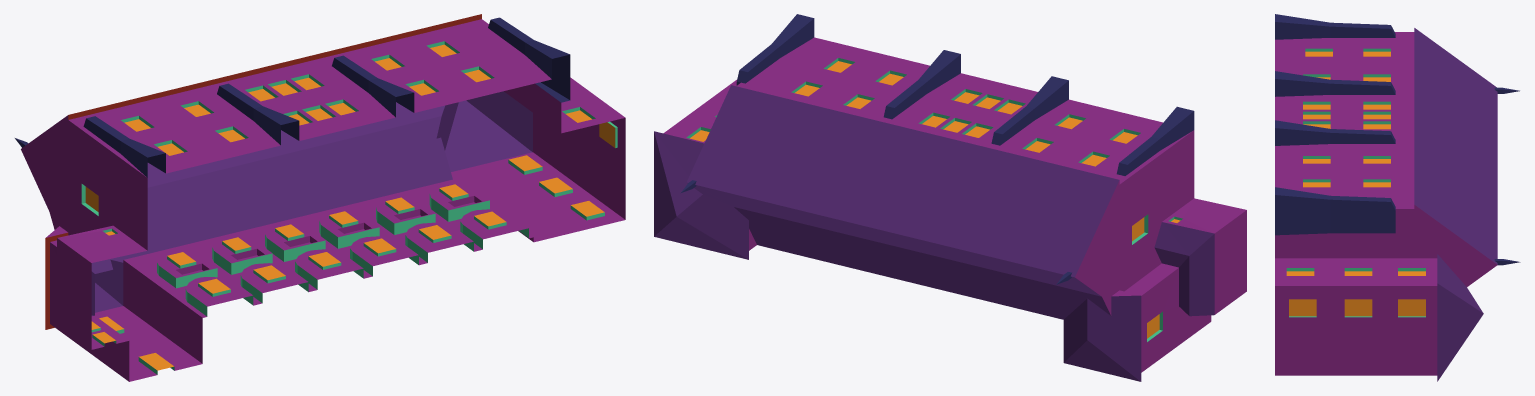
File: Zamek Tier 1.fbx
3 views of the same model, side by side, from view 1: azimuth 30°, elevation 25°; view 2: azimuth 150°, elevation 25°; view 3: azimuth 270°, elevation 25° (orthographic). The views are drawn at different scales.
Parts seen in each view (by area): view 1: Zamek_zamek_bez_bramy; view 2: Zamek_zamek_bez_bramy; view 3: Zamek_zamek_bez_bramy.
Boxes of the visible parts, left/top/right/bottom form: Zamek_zamek_bez_bramy: left=15, top=14, right=625, bottom=381; Zamek_zamek_bez_bramy: left=654, top=14, right=1246, bottom=381; Zamek_zamek_bez_bramy: left=1275, top=14, right=1520, bottom=381.
Bounding box in the file's own units: 3.84 × 1.53 × 1.73.
